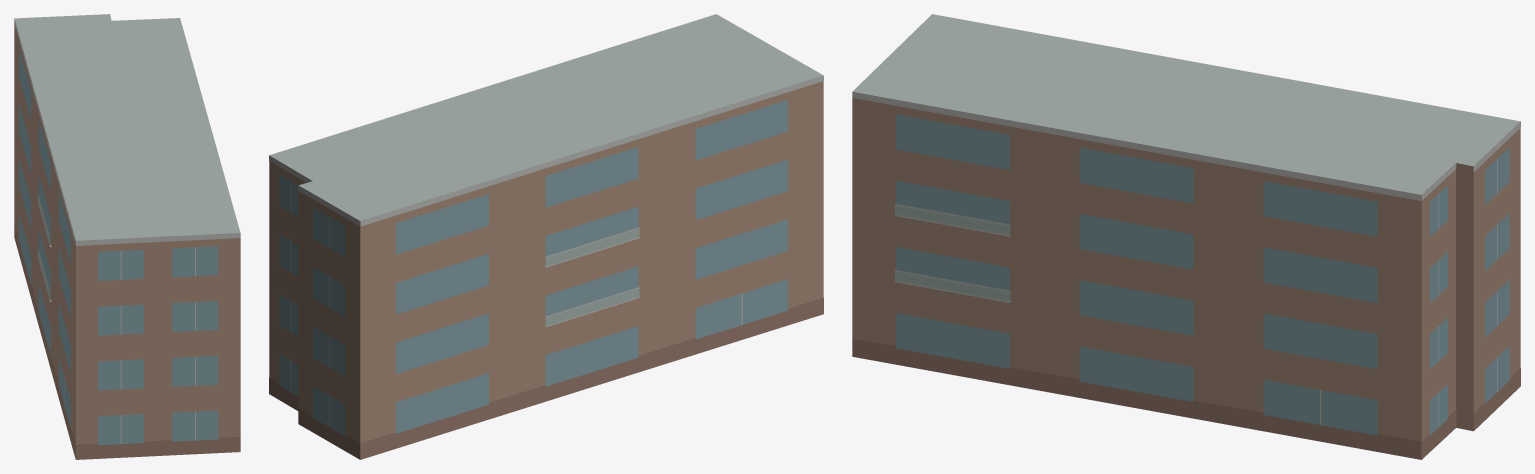
Rendered from survey-upis-32532400.glb.
3 views of the same model, side by side, from view 1: azimuth 30°, elevation 25°; view 2: azimuth 150°, elevation 25°; view 3: azimuth 270°, elevation 25° (orthographic). The views are drawn at different scales.
Parts seen in each view (by area): view 1: survey-upis-32532400.tmp; view 2: survey-upis-32532400.tmp; view 3: survey-upis-32532400.tmp.
Boxes of the visible parts, x1,y1,x2,y2 form: survey-upis-32532400.tmp: [14, 14, 240, 459]; survey-upis-32532400.tmp: [269, 14, 823, 459]; survey-upis-32532400.tmp: [852, 14, 1520, 459].
Size of the model in its own units: 15.39 by 10.5 by 24.02.
